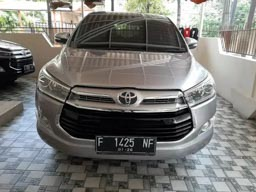plat: (96, 135, 155, 147)
